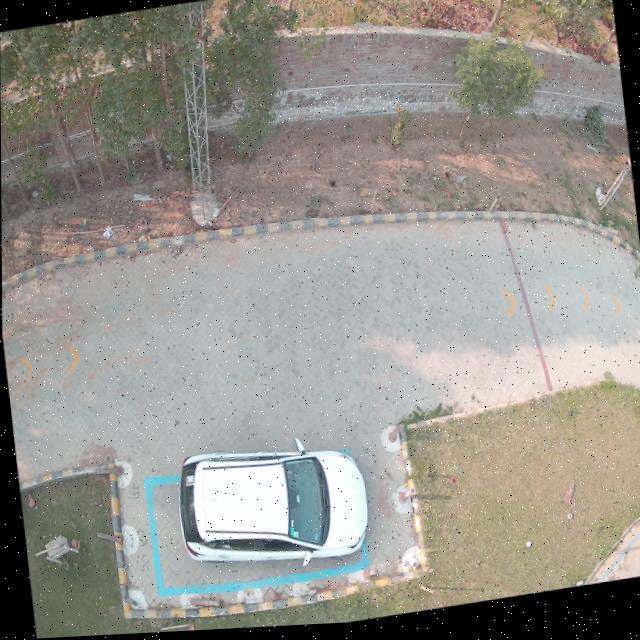car: (179, 453, 369, 571)
